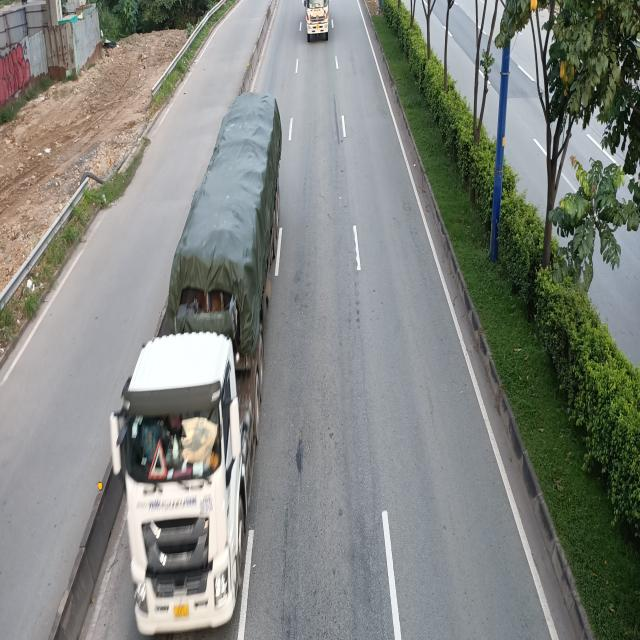container: (110, 95, 282, 636)
truck: (302, 0, 330, 43)
